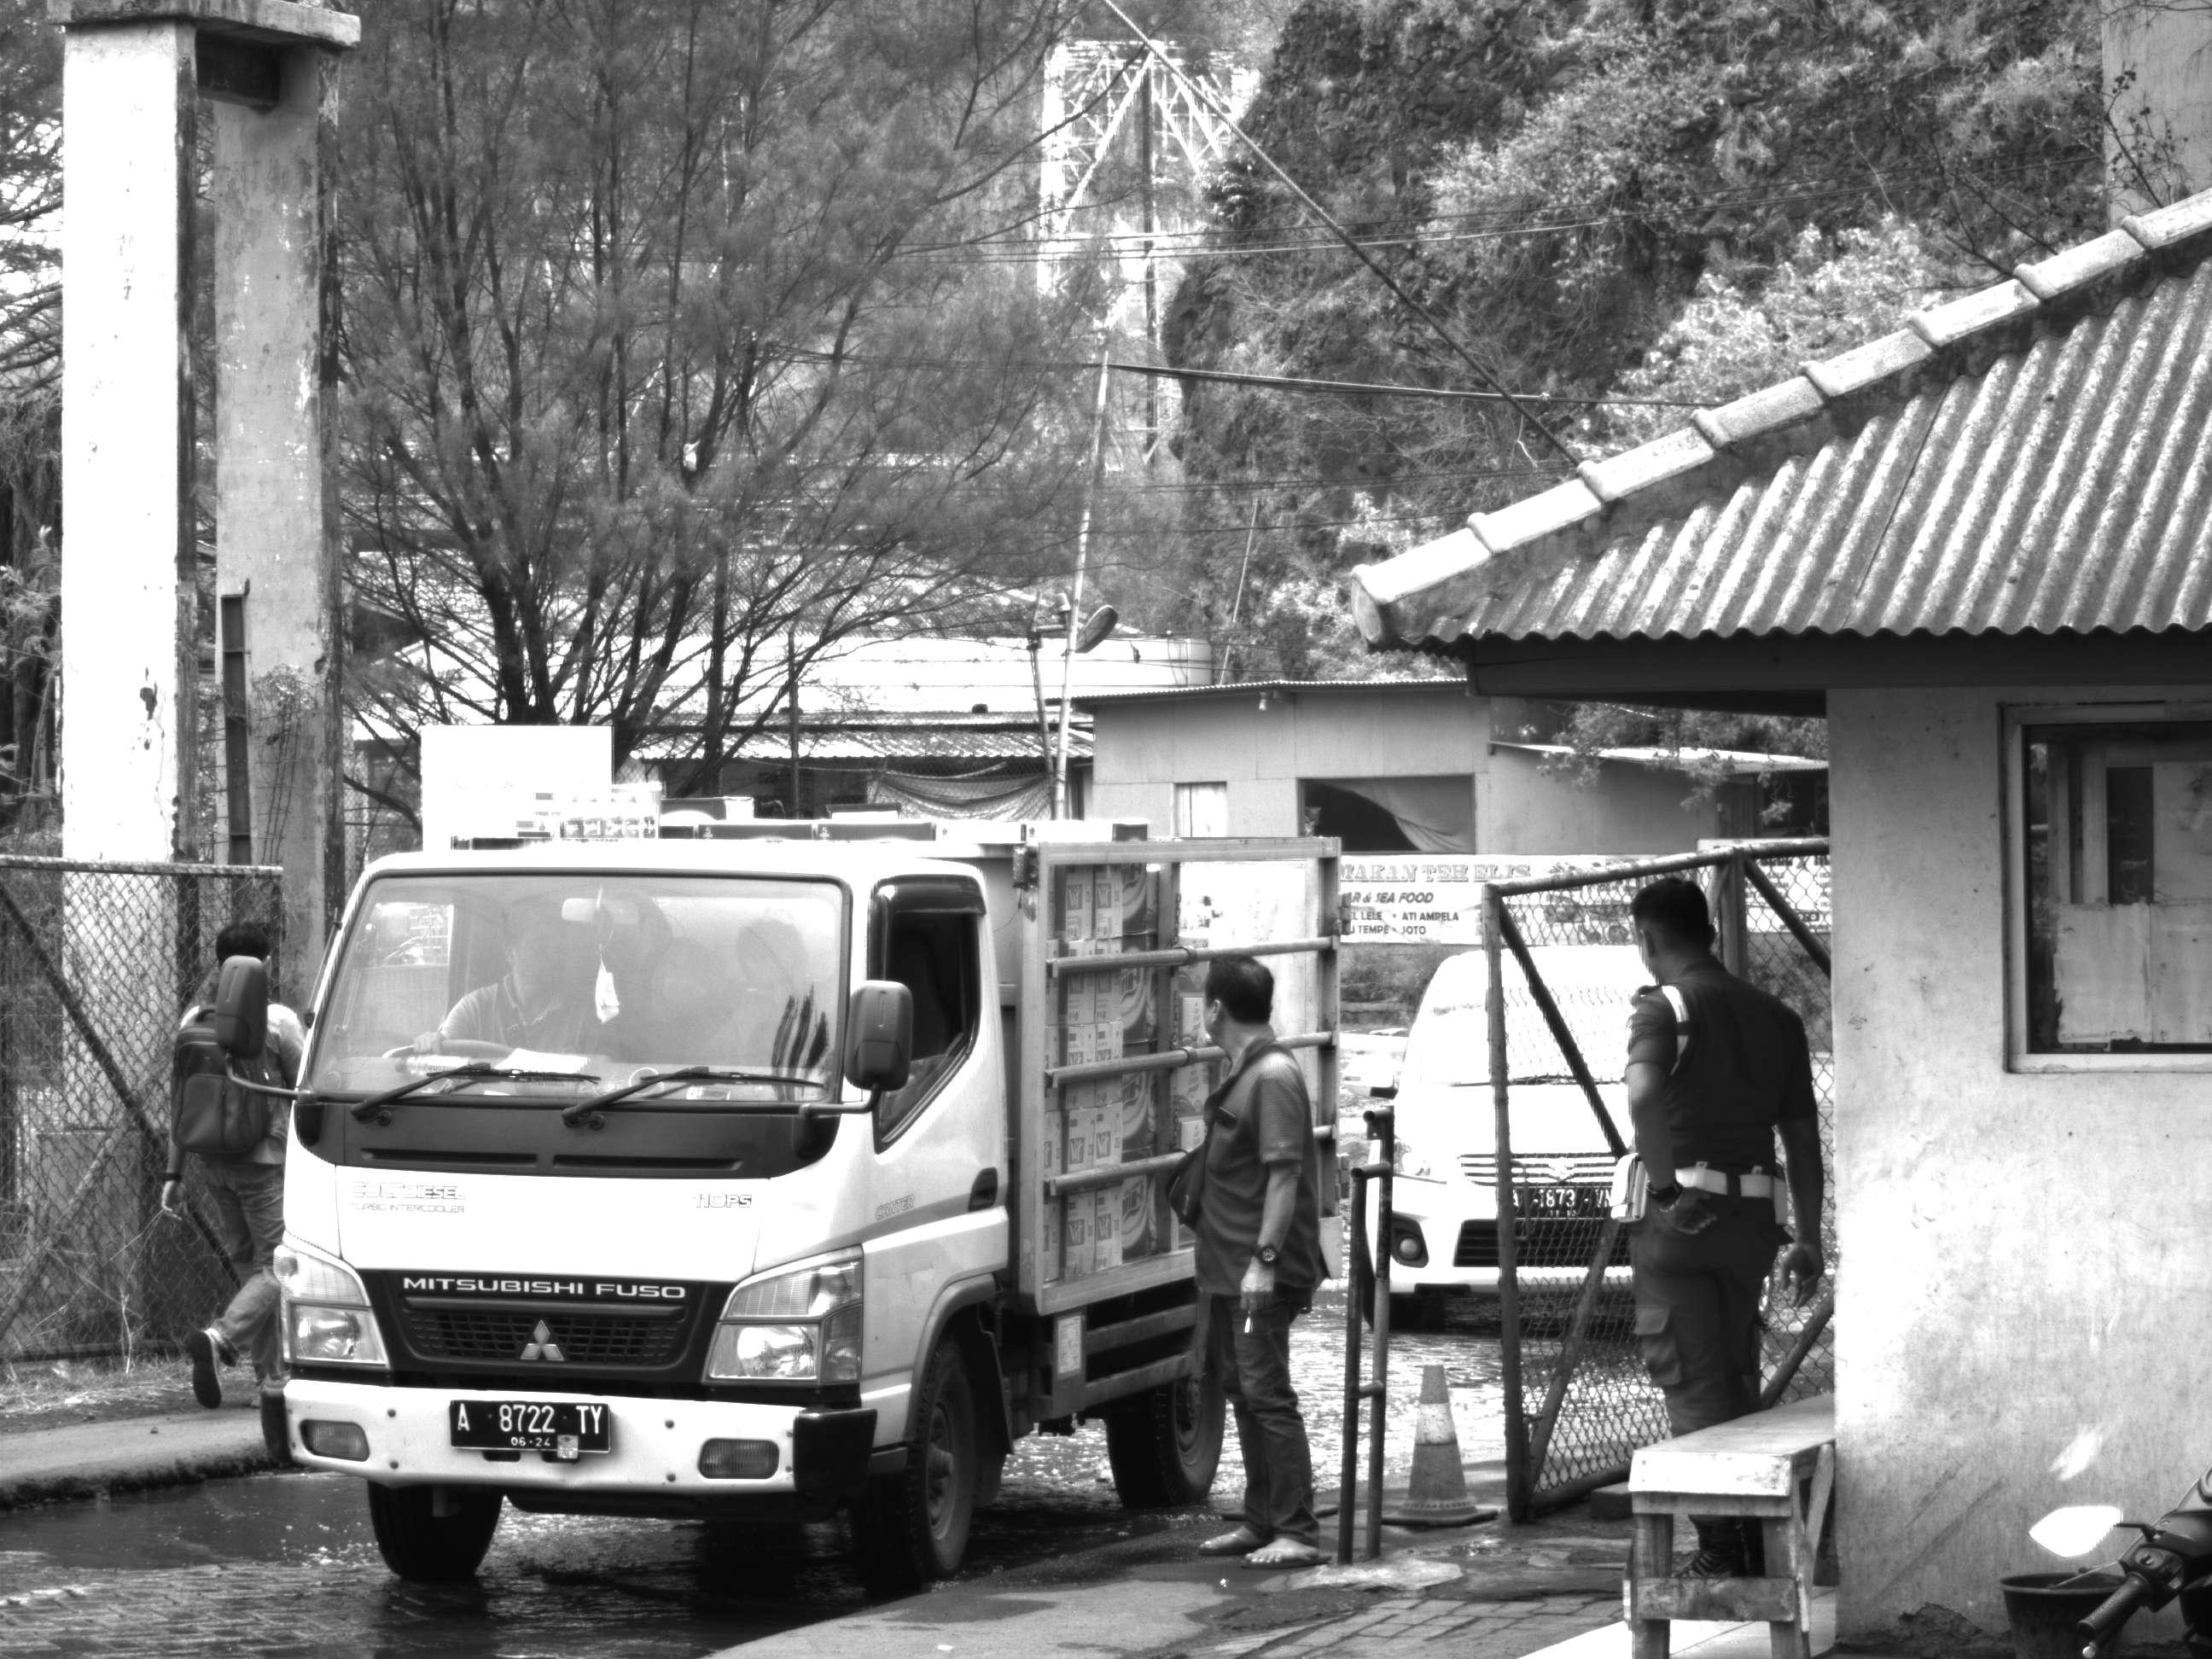day_truck_front: (263, 824, 1012, 1583)
plate: (450, 1396, 611, 1452)
